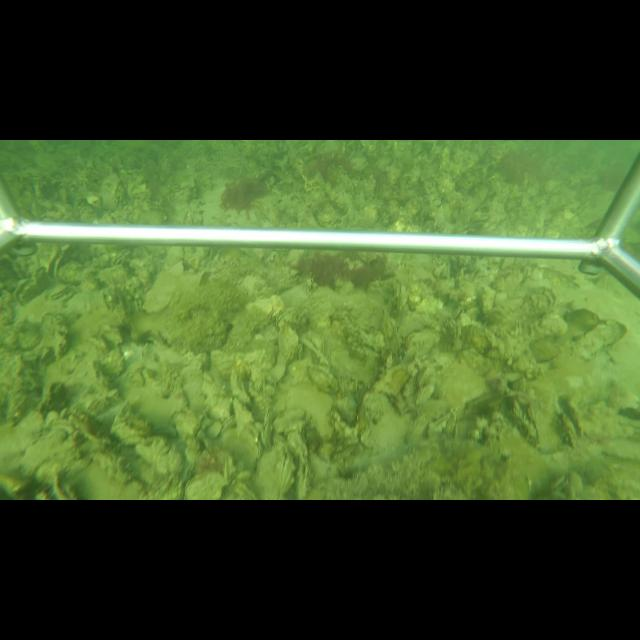Oyster-Closed: (357, 389, 409, 453), (255, 445, 299, 498), (139, 269, 181, 315), (285, 430, 310, 499)
Oyster-Open: (556, 396, 587, 444), (12, 278, 42, 306)
